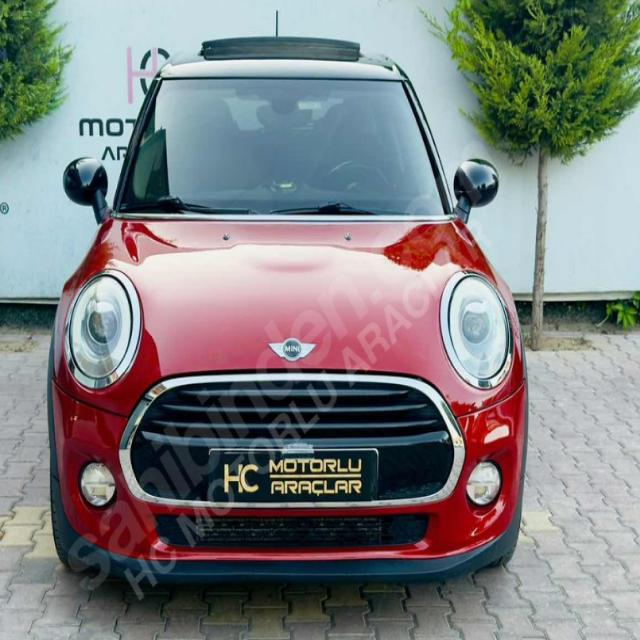mini: (264, 326, 318, 366)
